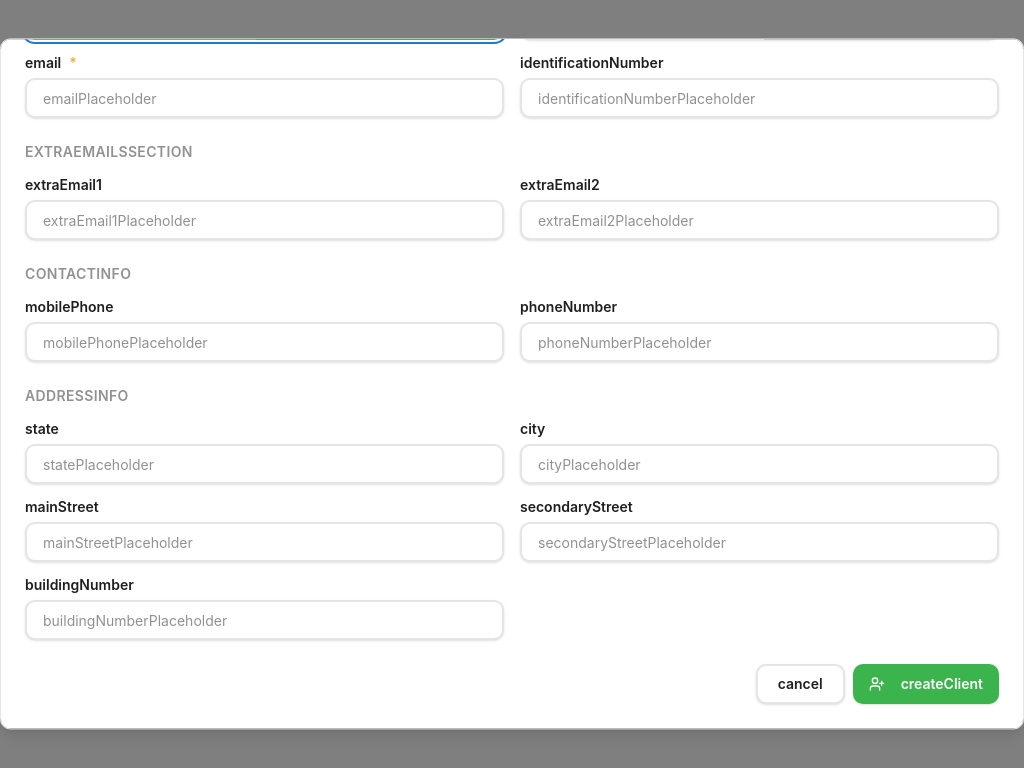
AddClientDialog › shows validation error when firstName is empty on submit
(page scrolled)
Click the button "createClient".
click(926, 684)  # box left=853, top=664, right=999, bottom=704
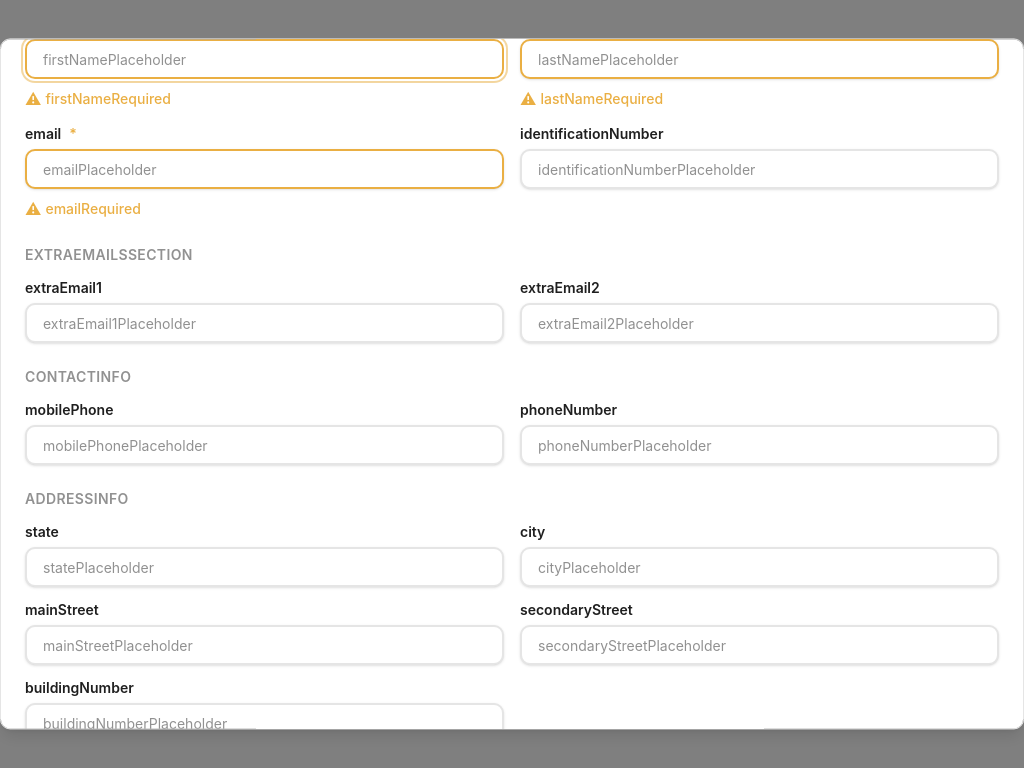
Now the text "firstNameRequired" is shown, box left=45, top=90, right=171, bottom=107
